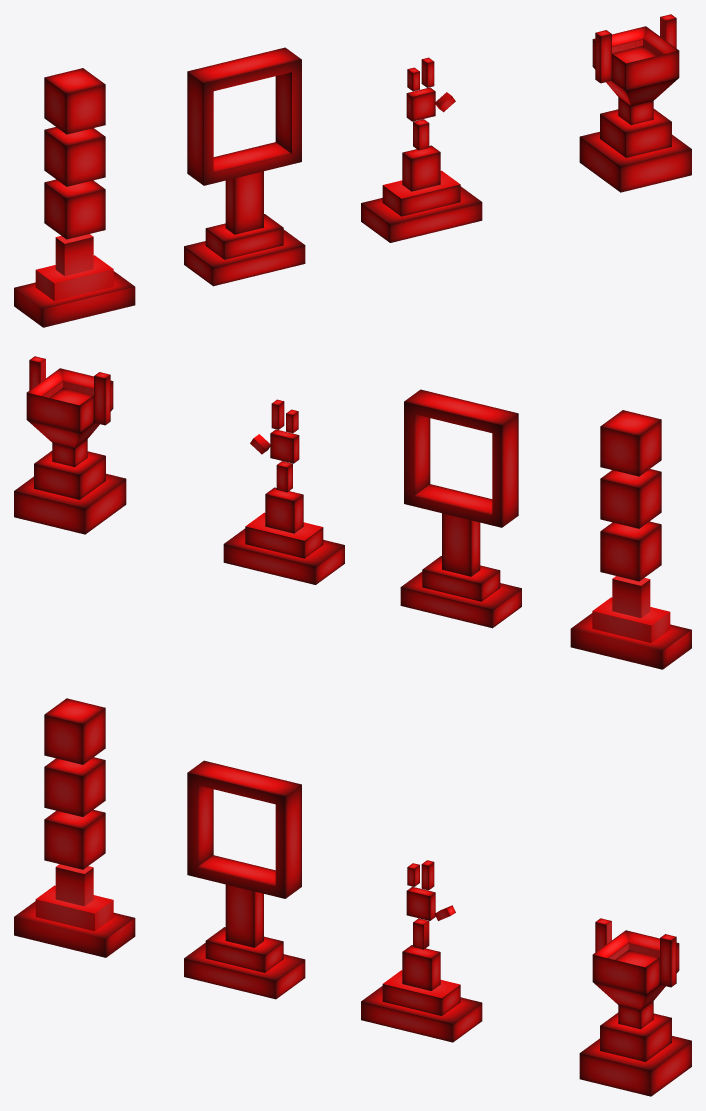
File: SM_Red_Assests.fbx
3 renders of one model, top to bottom at view 1: azimuth 30°, elevation 25°; view 2: azimuth 150°, elevation 25°; view 3: azimuth 330°, elevation 25°, orthographic.
Parts seen in each view (by area): view 1: pCube1, pCube8, pCube12, pCube7; view 2: pCube1, pCube8, pCube12, pCube7; view 3: pCube1, pCube8, pCube12, pCube7.
Boxes of the visible parts, x1,y1,x2,y2 form: pCube1: [184, 47, 305, 286]; pCube8: [14, 68, 135, 327]; pCube12: [579, 14, 691, 192]; pCube7: [361, 57, 482, 242]; pCube1: [400, 389, 521, 628]; pCube8: [570, 410, 691, 669]; pCube12: [14, 356, 126, 534]; pCube7: [223, 399, 344, 584]; pCube1: [184, 760, 305, 999]; pCube8: [14, 698, 135, 957]; pCube12: [579, 918, 691, 1096]; pCube7: [361, 860, 482, 1042].
Bounding box in the file's own units: 27.51 × 9.17 × 3.02.
1 material, 1 textured.
